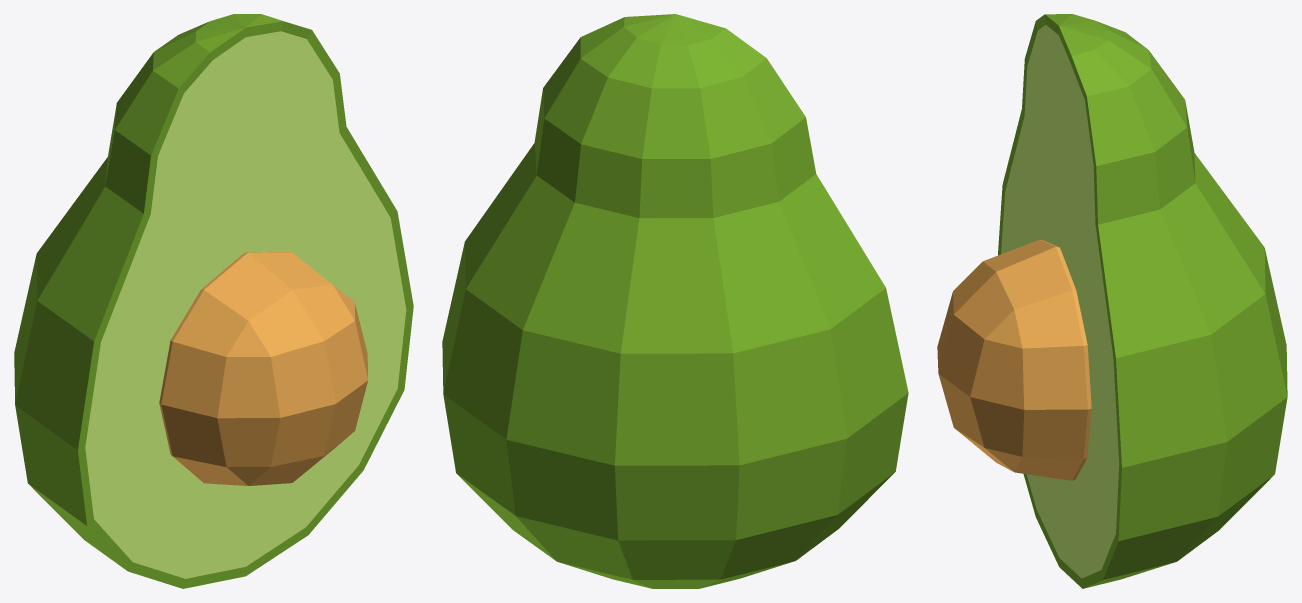
Rendered from avocado-bone.fbx.
3 views of the same model, side by side, from view 1: azimuth 30°, elevation 25°; view 2: azimuth 150°, elevation 25°; view 3: azimuth 270°, elevation 25° (orthographic). The views are drawn at different scales.
Parts seen in each view (by area): view 1: Cube.011; view 2: Cube.011; view 3: Cube.011.
Part boxes in pixels (bbox=[...]): Cube.011: bbox=[14, 14, 413, 588]; Cube.011: bbox=[442, 14, 908, 588]; Cube.011: bbox=[937, 14, 1287, 588].
Size of the model in its own units: 87.66 by 115 by 67.36.
